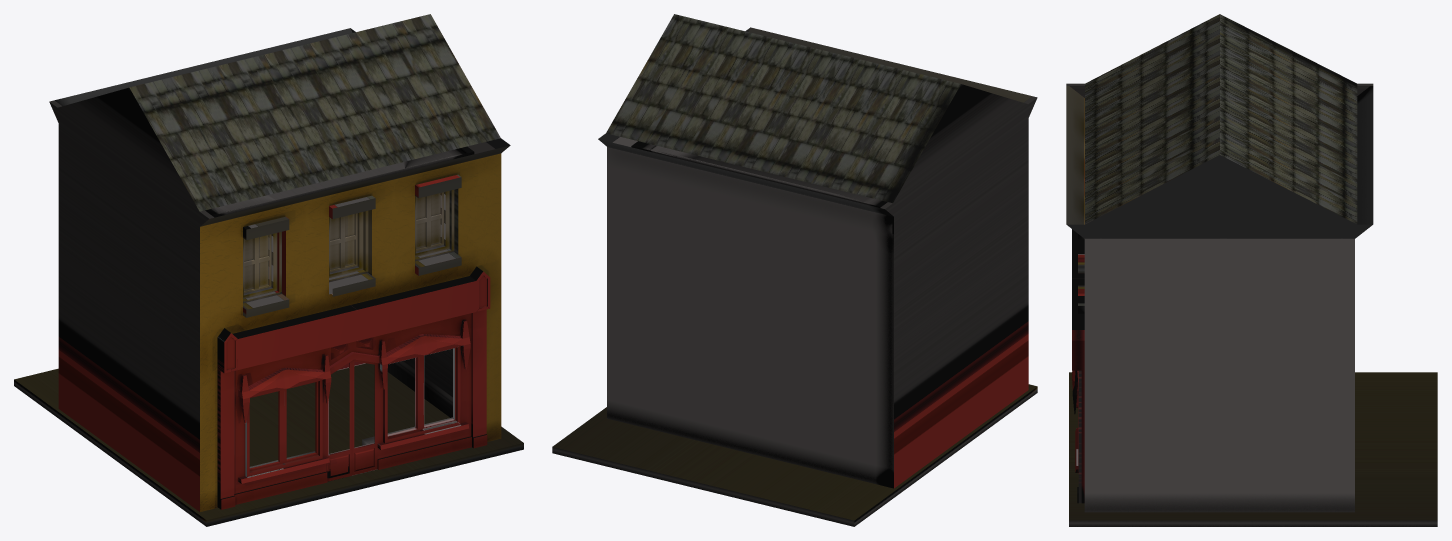
3 views of the same model, side by side, from view 1: azimuth 30°, elevation 25°; view 2: azimuth 150°, elevation 25°; view 3: azimuth 270°, elevation 25° (orthographic). The views are drawn at different scales.
Parts seen in each view (by area): view 1: Cube.000; view 2: Cube.000; view 3: Cube.000.
Part boxes in pixels (x1,y1,x2,y2): Cube.000: (14, 14, 523, 526); Cube.000: (552, 14, 1037, 526); Cube.000: (1066, 14, 1437, 526).
Bounding box in the file's own units: 23471 × 26963 × 24838.
Materials: 1 (1 with a texture image).
